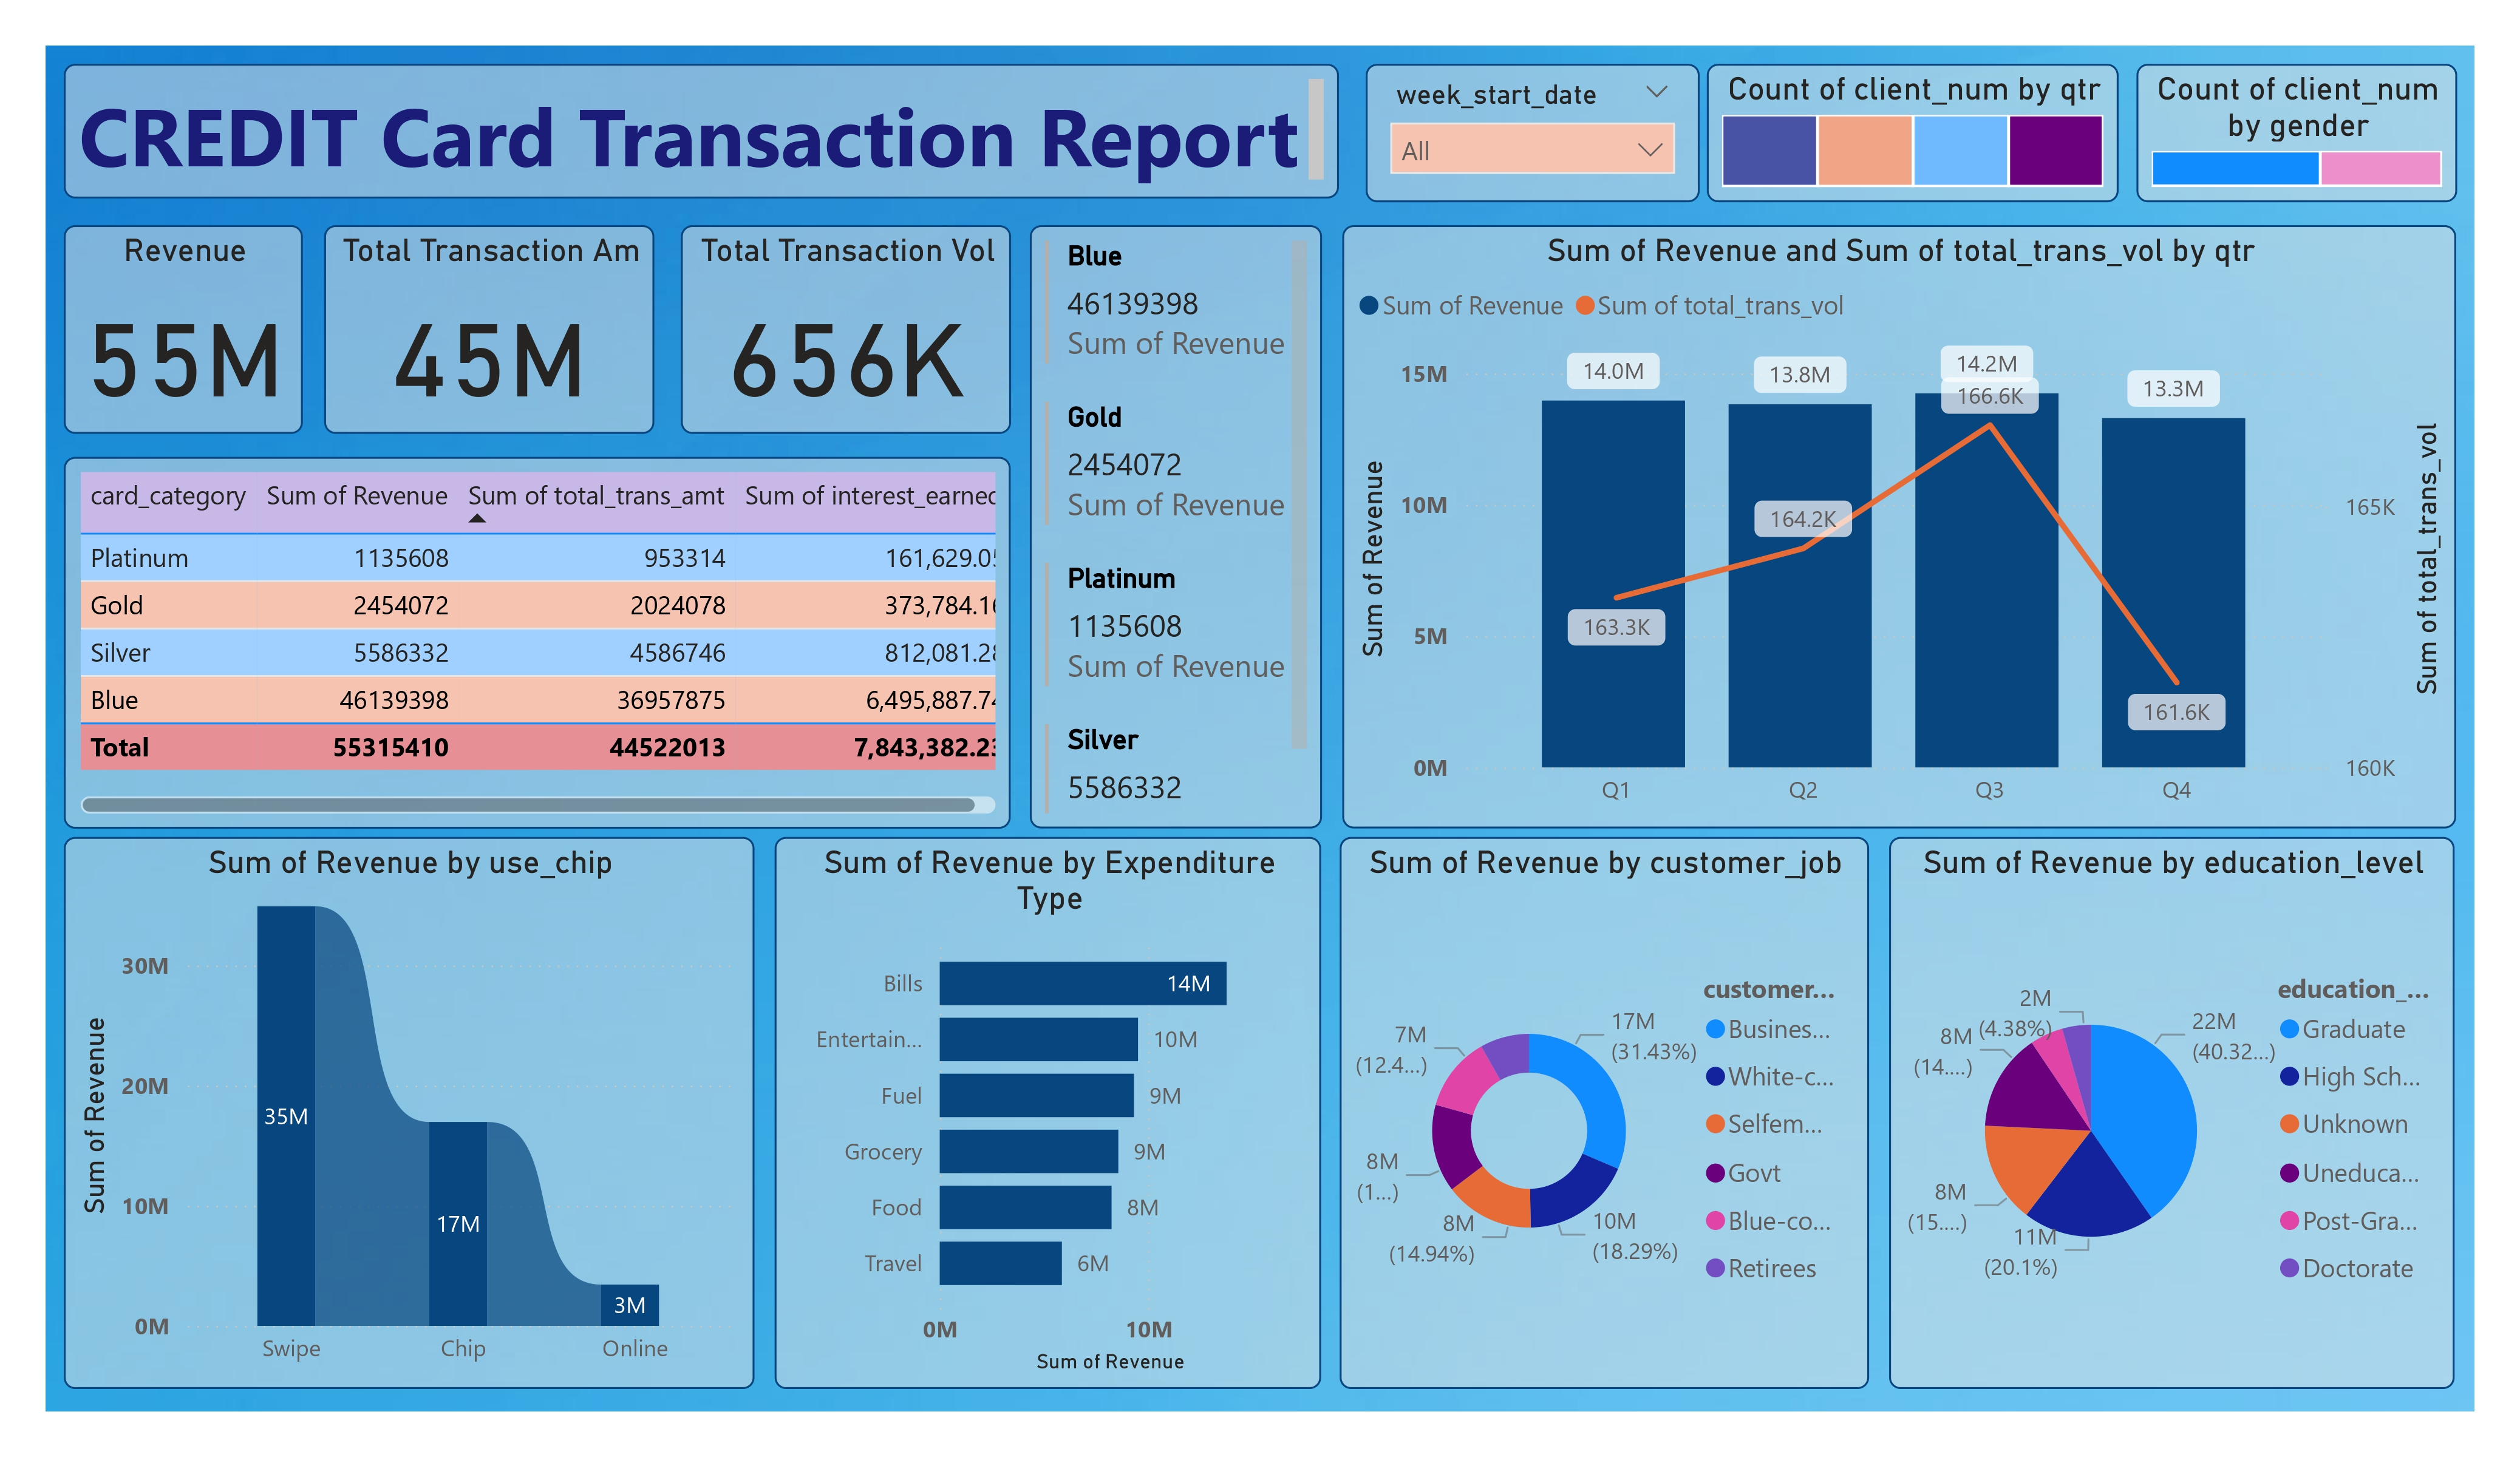

The page's visual inventory and layout, read from the dashboard file:
{"tool":"powerbi","page":{"name":"Page 2","canvas":[1280,720],"ordinal":0},"visuals":[{"type":"textbox","box":[9.6,9.6,672.4,71.4],"z":0},{"type":"lineStackedColumnComboChart","fields":{"Category":["public ccdetail.qtr"],"Y":["Sum(public ccdetail.Revenue)"],"Y2":["Sum(public ccdetail.total_trans_vol)"]},"box":[683.4,94.7,587.3,318.4],"z":1000},{"type":"barChart","title":"Sum of Revenue by Expenditure Type","fields":{"Y":["Sum(public ccdetail.Revenue)"],"Category":["public ccdetail.exp_type"]},"box":[384.2,417.2,288.2,290.9],"z":2000},{"type":"pieChart","fields":{"Category":["public custdetail.education_level"],"Y":["Sum(public ccdetail.Revenue)"]},"box":[971.5,417.2,297.8,290.9],"z":3000},{"type":"donutChart","fields":{"Category":["public custdetail.customer_job"],"Y":["Sum(public ccdetail.Revenue)"]},"box":[682,417.2,278.6,290.9],"z":4000},{"type":"multiRowCard","fields":{"Values":["public ccdetail.card_category","Sum(public ccdetail.Revenue)"]},"box":[518.7,94.7,153.7,318.4],"z":5000},{"type":"ribbonChart","fields":{"Category":["public ccdetail.use_chip"],"Y":["Sum(public ccdetail.Revenue)"]},"box":[9.6,417.2,363.6,290.9],"z":6000},{"type":"tableEx","fields":{"Values":["public ccdetail.card_category","Sum(public ccdetail.Revenue)","Sum(public ccdetail.total_trans_amt)","Sum(public ccdetail.interest_earned)"]},"box":[9.6,216.8,499.5,196.2],"z":7000},{"type":"card","title":"Revenue","fields":{"Values":["Sum(public ccdetail.Revenue)"]},"box":[9.6,94.7,126.2,109.8],"z":8000},{"type":"card","title":"Total Transaction Am","fields":{"Values":["Sum(public ccdetail.total_trans_amt)"]},"box":[146.8,94.7,174.3,109.8],"z":9000},{"type":"card","title":"Total Transaction Vol","fields":{"Values":["Sum(public ccdetail.total_trans_vol)"]},"box":[334.8,94.7,174.3,109.8],"z":10000},{"type":"slicer","fields":{"Values":["public ccdetail.week_start_date"]},"box":[695.7,9.6,175.6,72.7],"z":11000},{"type":"treemap","fields":{"Group":["public ccdetail.qtr"],"Values":["CountNonNull(public ccdetail.client_num)"]},"box":[875.5,9.6,216.8,72.7],"z":12000},{"type":"treemap","fields":{"Group":["public custdetail.gender"],"Values":["CountNonNull(public ccdetail.client_num)"]},"box":[1101.9,9.6,168.8,72.7],"z":13000}]}

Visuals, with their boxes in screenshot pixels (x1, y1, x2, y2):
textbox: {"x1": 64, "y1": 64, "x2": 1340, "y2": 199}
lineStackedColumnComboChart - public ccdetail.qtr x Sum(public ccdetail.Revenue): {"x1": 1343, "y1": 225, "x2": 2457, "y2": 829}
"Sum of Revenue by Expenditure Type" barChart: {"x1": 775, "y1": 837, "x2": 1321, "y2": 1389}
pieChart - public custdetail.education_level x Sum(public ccdetail.Revenue): {"x1": 1889, "y1": 837, "x2": 2454, "y2": 1389}
donutChart - public custdetail.customer_job x Sum(public ccdetail.Revenue): {"x1": 1340, "y1": 837, "x2": 1868, "y2": 1389}
multiRowCard - public ccdetail.card_category x Sum(public ccdetail.Revenue): {"x1": 1030, "y1": 225, "x2": 1321, "y2": 829}
ribbonChart - public ccdetail.use_chip x Sum(public ccdetail.Revenue): {"x1": 64, "y1": 837, "x2": 754, "y2": 1389}
tableEx - public ccdetail.card_category x Sum(public ccdetail.Revenue): {"x1": 64, "y1": 457, "x2": 1012, "y2": 829}
"Revenue" card: {"x1": 64, "y1": 225, "x2": 303, "y2": 433}
"Total Transaction Am" card: {"x1": 324, "y1": 225, "x2": 655, "y2": 433}
"Total Transaction Vol" card: {"x1": 681, "y1": 225, "x2": 1012, "y2": 433}
slicer - public ccdetail.week_start_date: {"x1": 1366, "y1": 64, "x2": 1699, "y2": 202}
treemap - public ccdetail.qtr x CountNonNull(public ccdetail.client_num): {"x1": 1707, "y1": 64, "x2": 2118, "y2": 202}
treemap - public custdetail.gender x CountNonNull(public ccdetail.client_num): {"x1": 2136, "y1": 64, "x2": 2457, "y2": 202}
